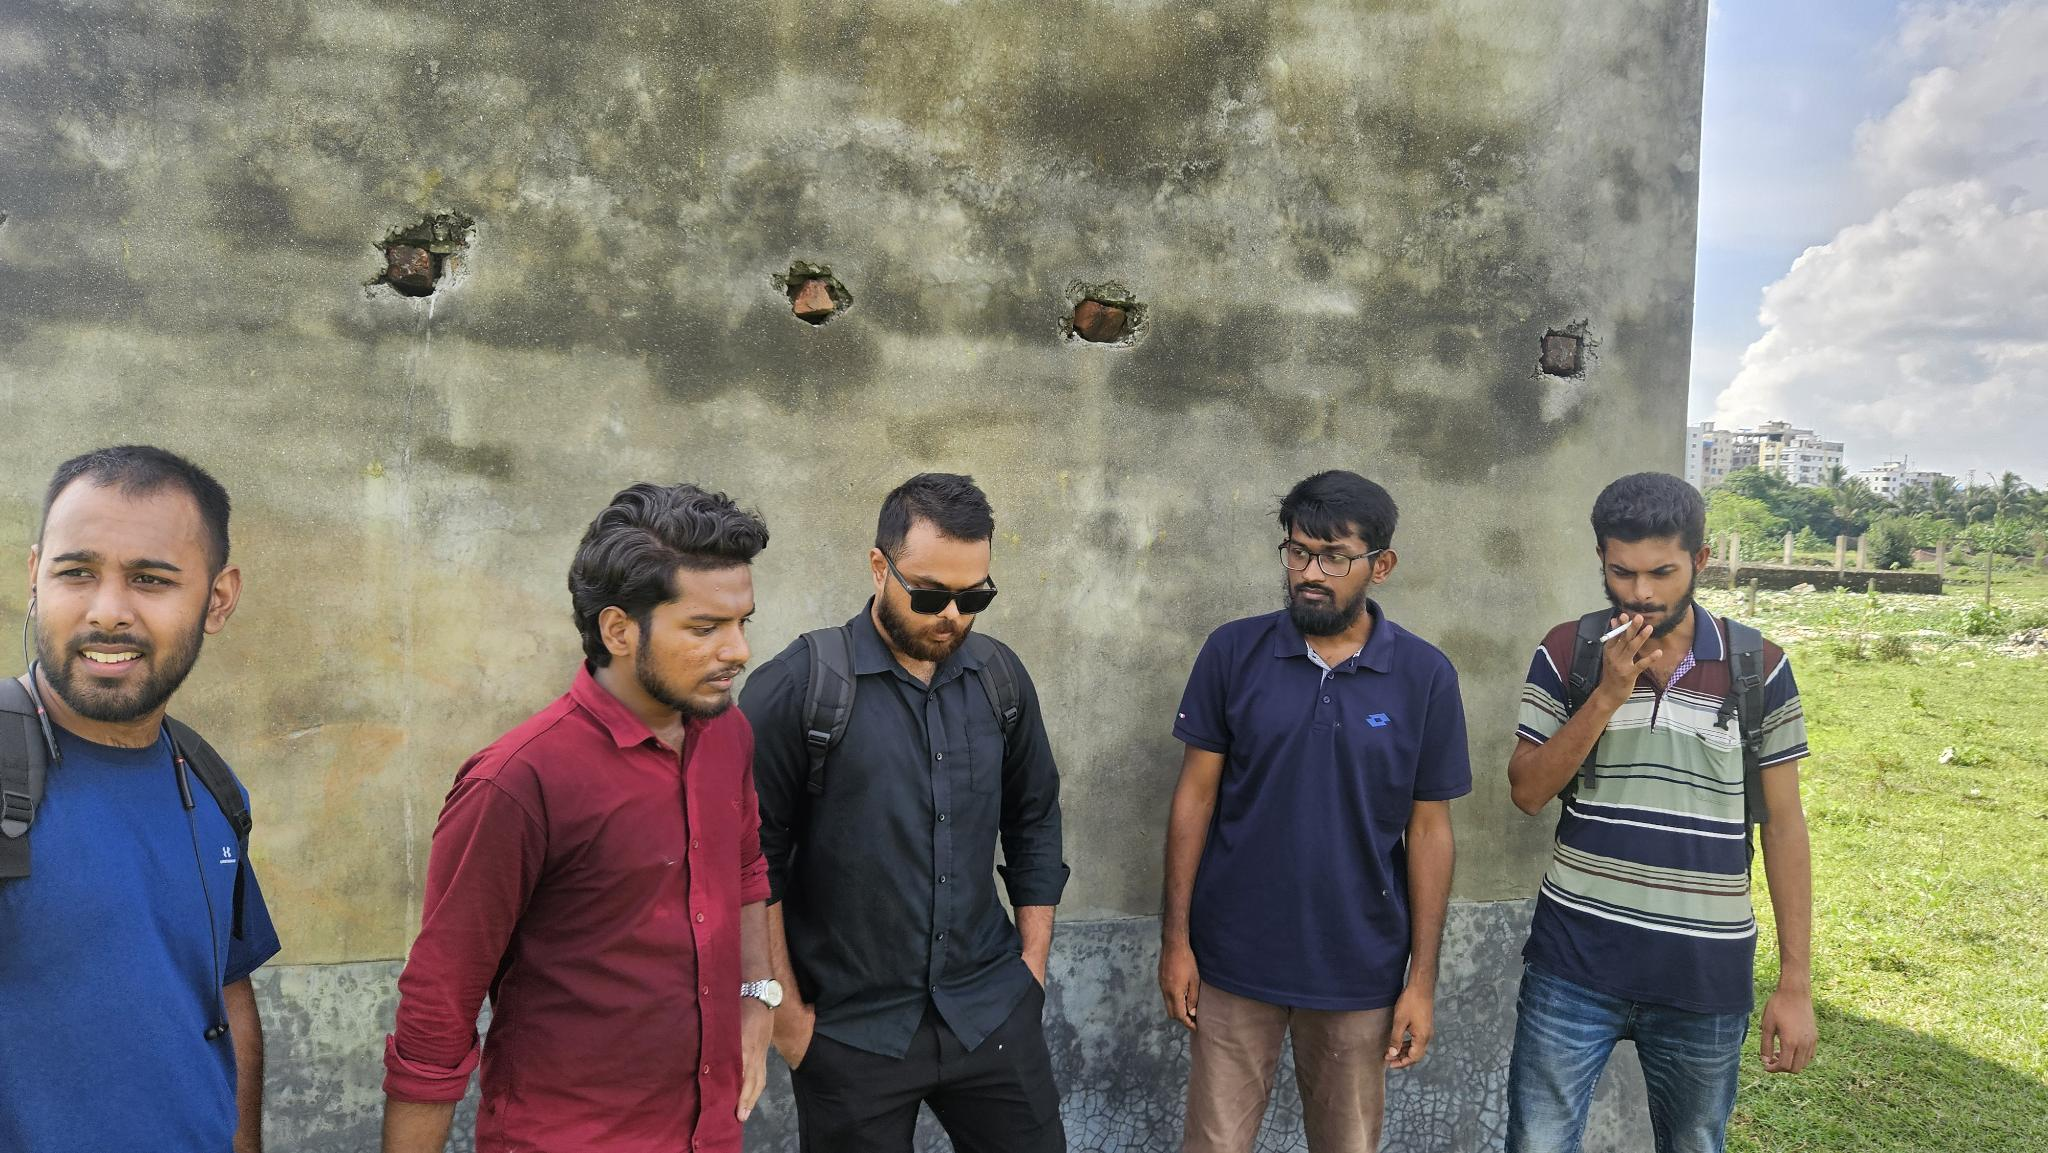cigarette: (1596, 619, 1634, 645)
nonSmoker: (380, 481, 782, 1153), (743, 471, 1069, 1153), (1158, 470, 1478, 1153), (0, 442, 281, 1153)
smoker: (1509, 471, 1816, 1153)
